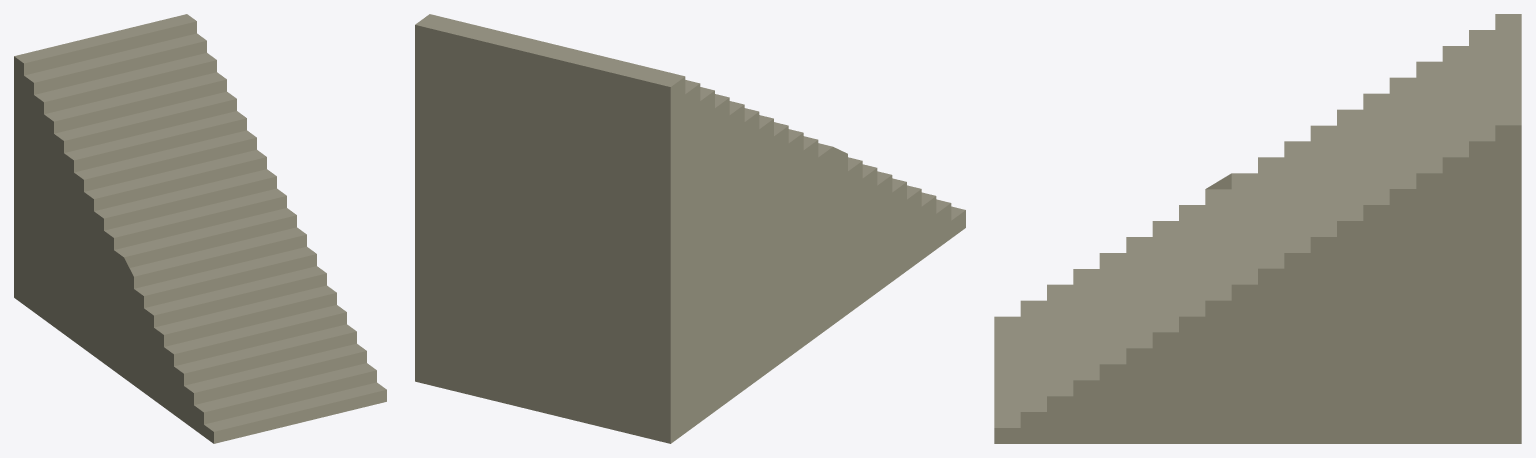
File: WP_A19_stairs_rise_4m_v02.glb
The picture shows the model from 3 angles, left to right: view 1: azimuth 30°, elevation 25°; view 2: azimuth 150°, elevation 25°; view 3: azimuth 270°, elevation 25°; orthographic projection. The views are drawn at different scales.
Visible parts, largest first — view 1: StairSolid.001; view 2: StairSolid.001; view 3: StairSolid.001.
Boxes of the visible parts, box(x1,y1,x2,y2) form: StairSolid.001: box(14, 14, 386, 443); StairSolid.001: box(415, 14, 965, 443); StairSolid.001: box(994, 14, 1521, 443).
Bounding box in the file's own units: 3 × 4 × 6.
